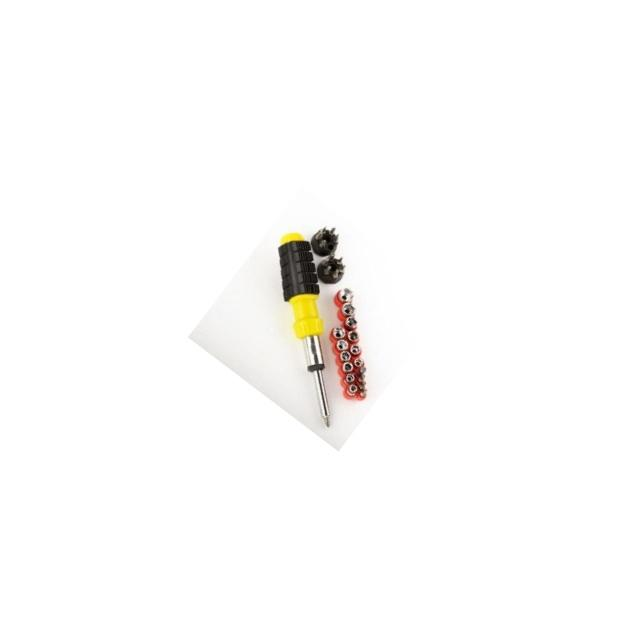screwdriver: (202, 224, 414, 433)
